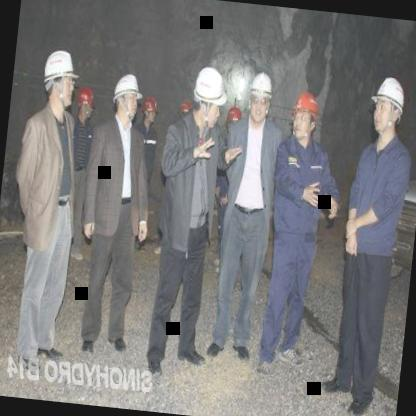helmet: (36, 42, 80, 115), (366, 70, 410, 140), (288, 87, 324, 144), (193, 62, 226, 122), (248, 63, 278, 123), (110, 70, 143, 121), (137, 90, 161, 132), (74, 84, 98, 124), (174, 92, 195, 130), (224, 102, 242, 136)
